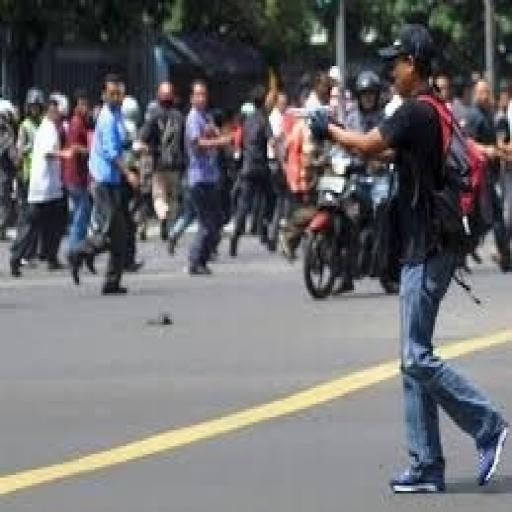running: (301, 21, 510, 496)
